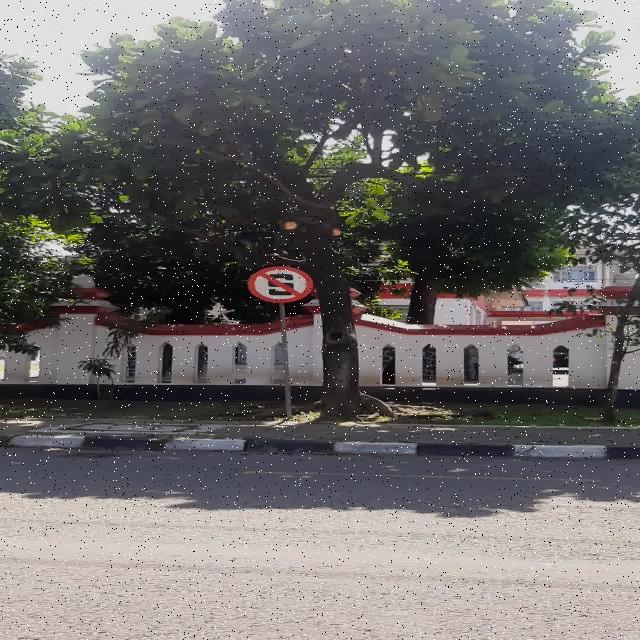Dilarang Berhenti: (248, 266, 313, 302)
